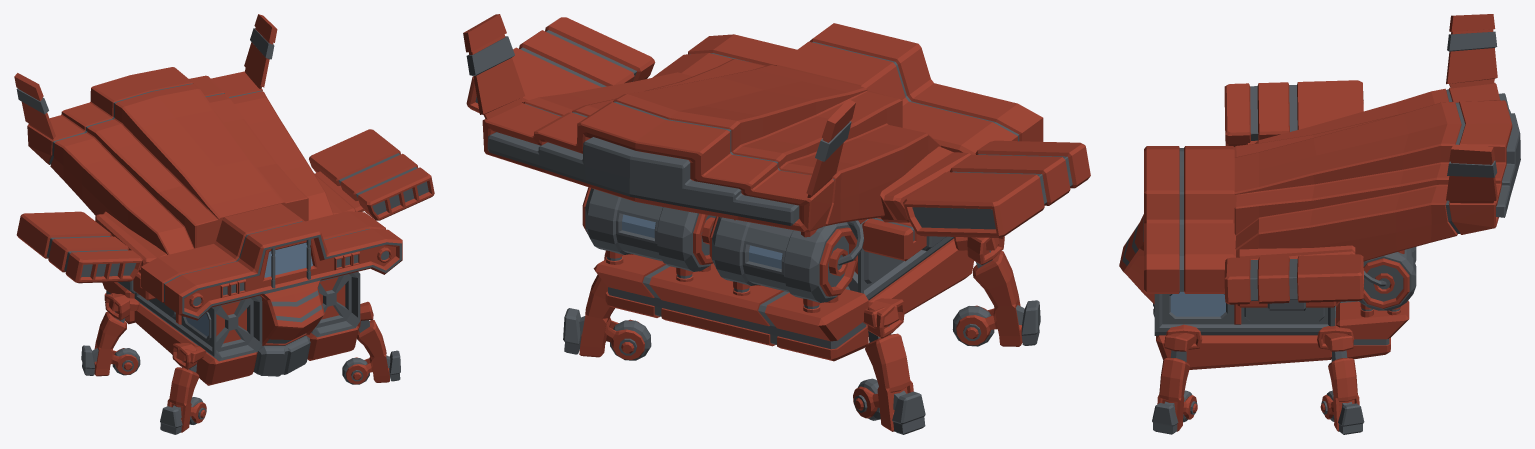
The model's file is Dropship_01_Red.fbx.
3 views of the same model, side by side, from view 1: azimuth 30°, elevation 25°; view 2: azimuth 150°, elevation 25°; view 3: azimuth 270°, elevation 25° (orthographic). The views are drawn at different scales.
Visible parts, largest first — view 1: Dropship_01_Red; view 2: Dropship_01_Red; view 3: Dropship_01_Red.
Boxes of the visible parts, x1,y1,x2,y2 form: Dropship_01_Red: (14, 14, 434, 434); Dropship_01_Red: (463, 14, 1090, 434); Dropship_01_Red: (1119, 14, 1520, 434).
Size of the model in its own units: 1915 by 1326 by 1633.
3 materials, 3 textured.
